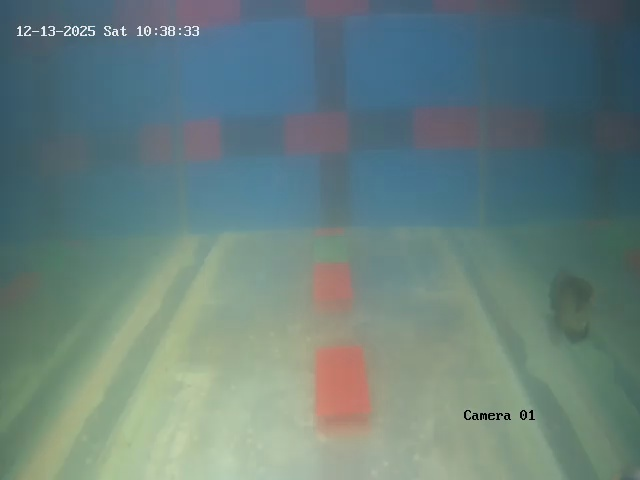fish: (543, 264, 605, 347)
